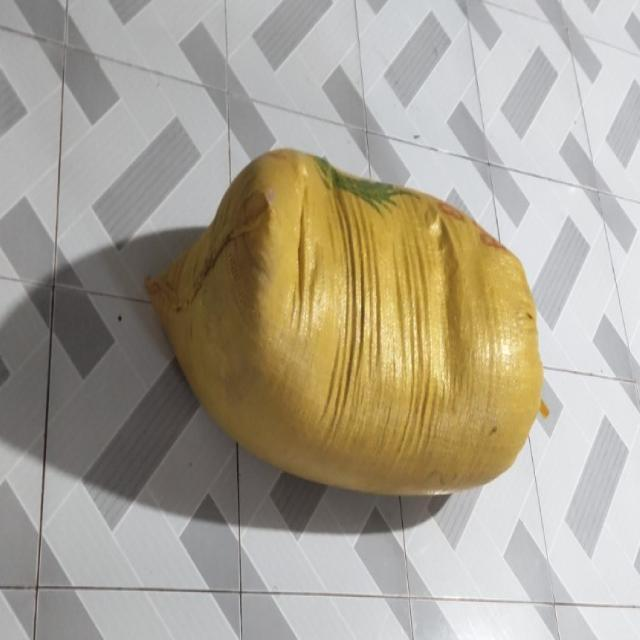gunny_bag: (146, 149, 544, 494)
